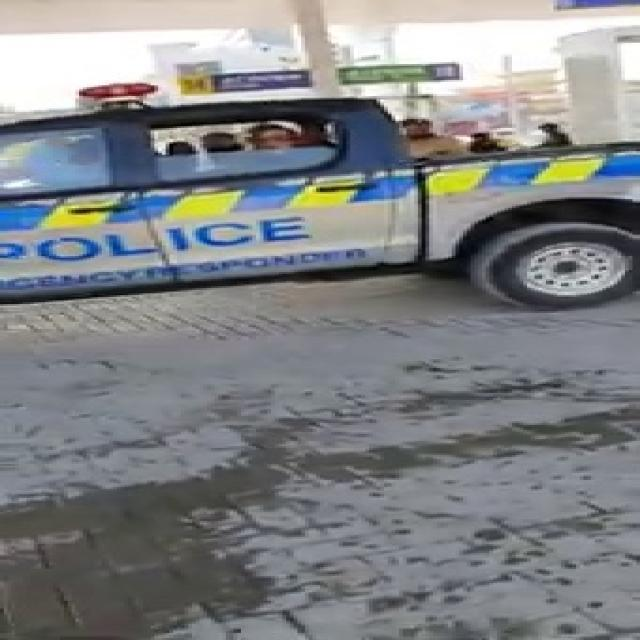police: (0, 62, 640, 306)
